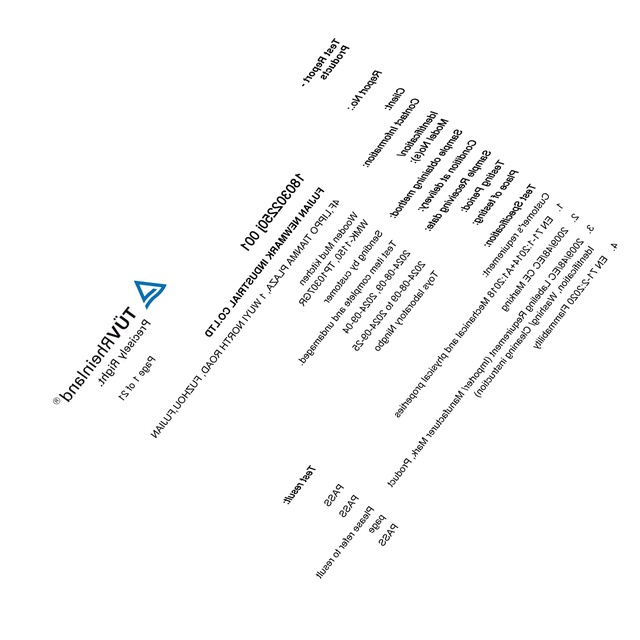tuv_rheinland: (48, 278, 167, 407)
